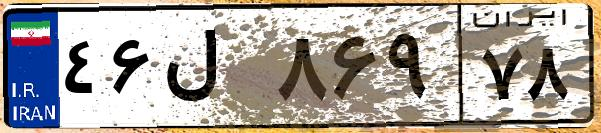4: (57, 26, 110, 100)
6: (330, 28, 385, 110), (110, 28, 158, 98)
7: (475, 38, 525, 113)
8: (270, 28, 330, 110), (525, 38, 570, 115)
9: (385, 28, 445, 110)
ل: (158, 20, 270, 120)
